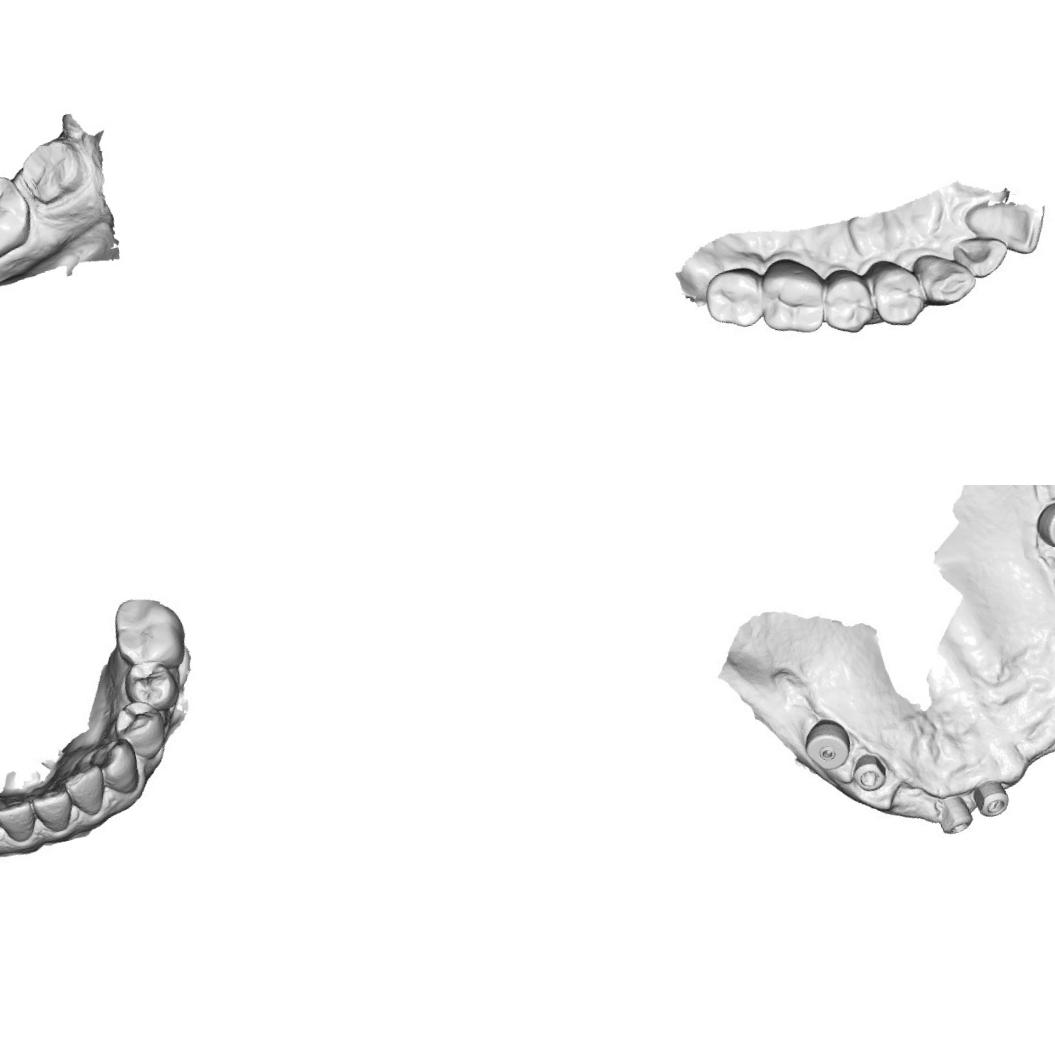canine: (912, 241, 980, 312), (95, 736, 144, 800)
crown: (9, 128, 97, 213)
implant: (798, 714, 856, 774), (933, 791, 976, 837), (970, 776, 1013, 820), (848, 750, 890, 794), (1030, 495, 1055, 555)
incisor: (970, 190, 1048, 264), (952, 230, 1012, 287), (32, 781, 82, 838), (63, 764, 111, 822), (0, 791, 41, 848)
molar: (106, 589, 190, 676), (756, 252, 836, 338), (700, 262, 774, 337), (0, 168, 40, 271)
premolar: (864, 253, 930, 334), (118, 655, 184, 719), (113, 695, 172, 766), (820, 271, 873, 334)
